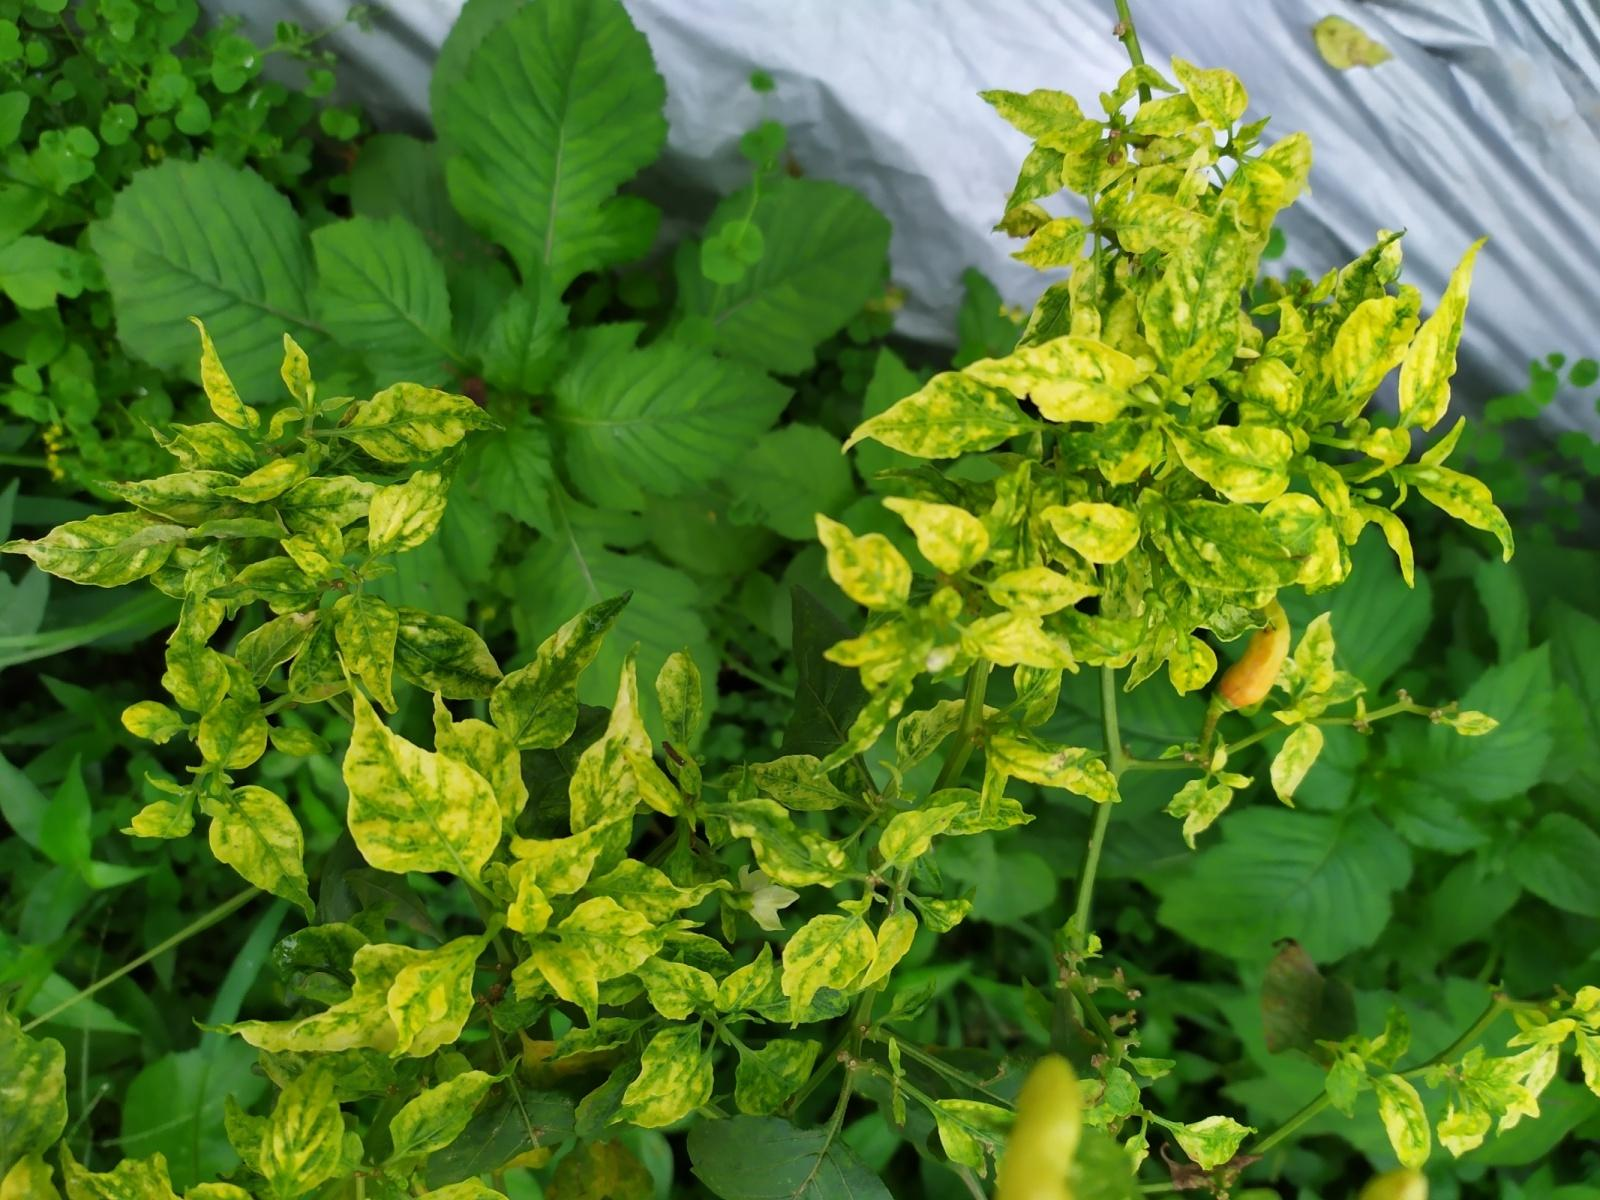lalat_buah: (1220, 595, 1291, 708)
